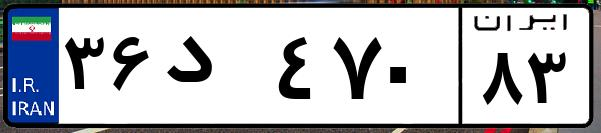0: (385, 28, 445, 110)
3: (57, 26, 110, 100), (525, 38, 570, 115)
4: (270, 28, 330, 110)
6: (110, 28, 158, 98)
7: (330, 28, 385, 110)
8: (475, 38, 525, 113)
د: (158, 20, 270, 120)
